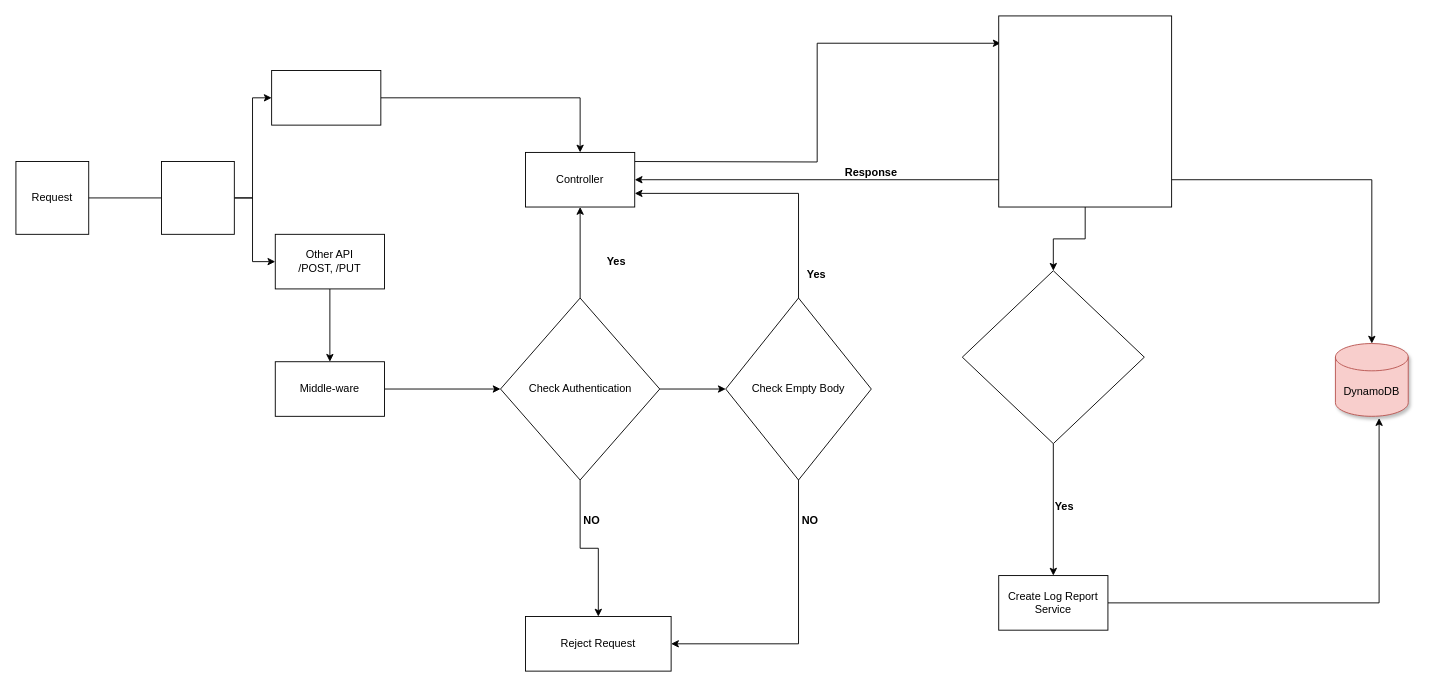
Image size: 1430x687. Some labels were removed from this diagram. Here are the shapes that lost their labels. From the top down, the centre of each, then its label:
At (326,97): "All Post API /GET".
At (1085,111): "GET Post Service Create Post Service Update Post Service GET Post By ID Service".
At (197,197): "Node Server".
At (1052,357): "New Post / Update Post Successful ?".
